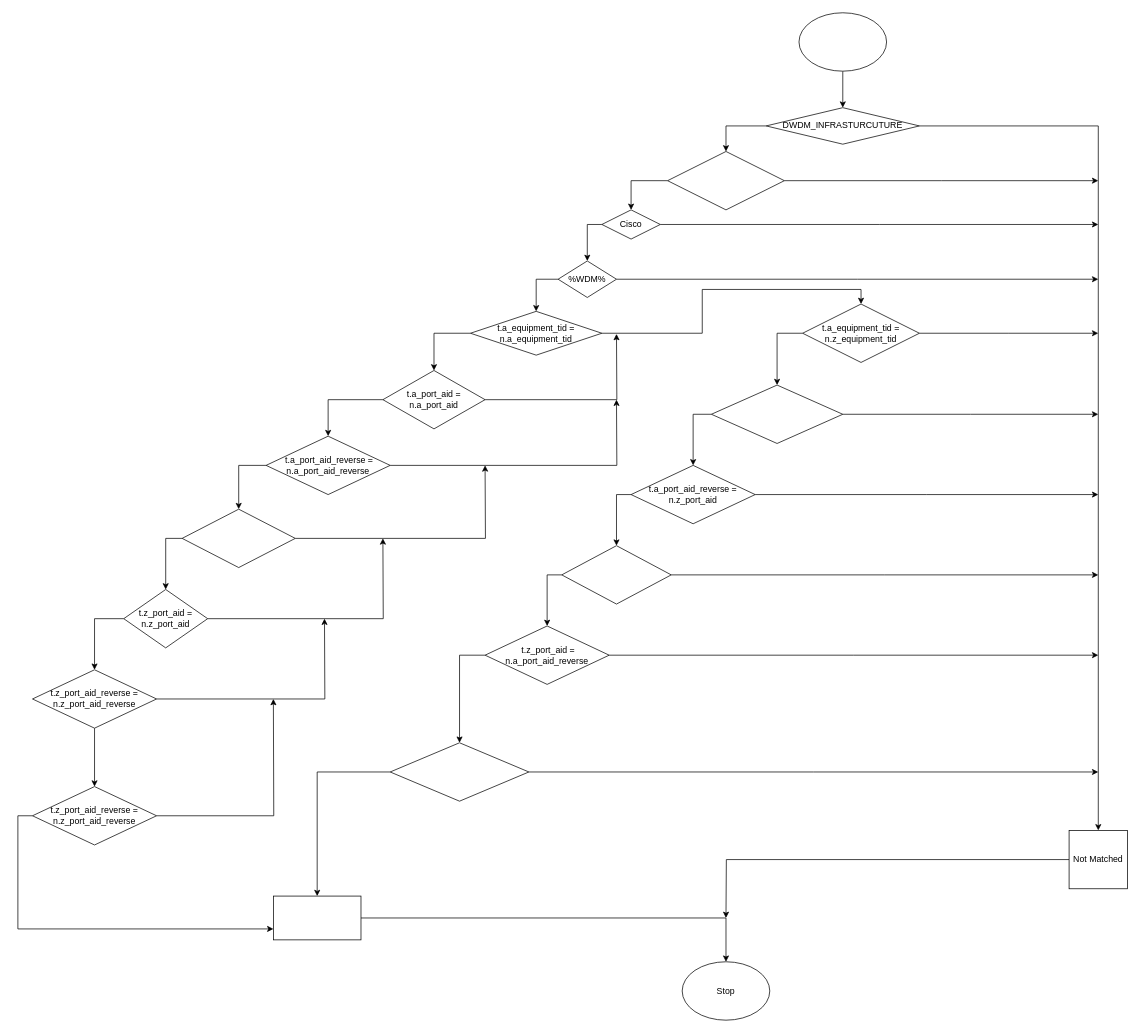
This 1140x1033 diagram has some shape labels left out. Here are the shapes that lost their labels. From the top down, the box of each, then its label:
(798, 12, 887, 71): Start
(667, 151, 784, 210): In Effect Implement Complete Pending Change
(711, 384, 843, 443): t.a_port_aid = n.z_port_aid_reverse
(181, 508, 295, 568): t.z_equipment_tid = n.z_equipment_tid
(561, 545, 671, 604): t.z_equipment_tid = n.a_equipment_tid
(389, 742, 529, 801): t.z_port_aid_reverse = n.a_port_aid
(273, 895, 361, 940): Matched
